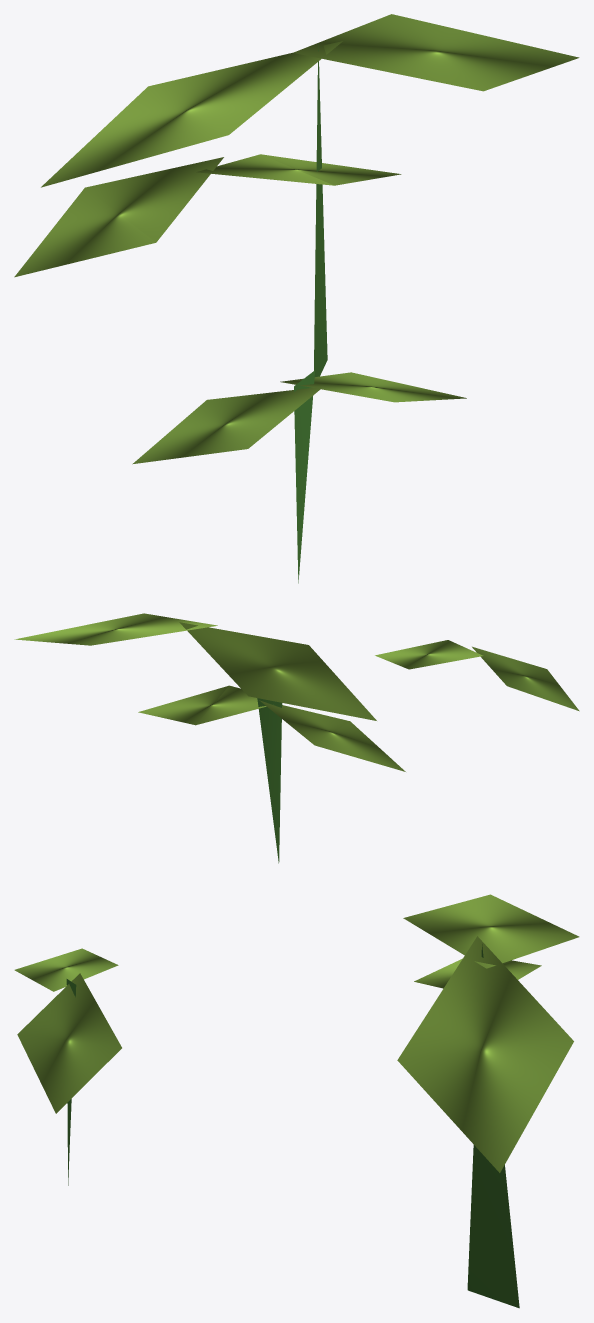
The model's file is canopy_gc_seedlings_a_lod2.glb.
The picture shows the model from 3 angles, top to bottom: view 1: azimuth 30°, elevation 25°; view 2: azimuth 150°, elevation 25°; view 3: azimuth 270°, elevation 25°; orthographic projection. The views are drawn at different scales.
Visible parts, largest first — view 1: canopy_gc_seedlings_a.001; view 2: canopy_gc_seedlings_a.001; view 3: canopy_gc_seedlings_a.001.
Part boxes in pixels (x1=…): canopy_gc_seedlings_a.001: x1=14, y1=14, x2=579, y2=583; canopy_gc_seedlings_a.001: x1=14, y1=613, x2=579, y2=863; canopy_gc_seedlings_a.001: x1=14, y1=894, x2=579, y2=1308.
Bounding box in the file's own units: 2.25 × 1.14 × 1.65.
